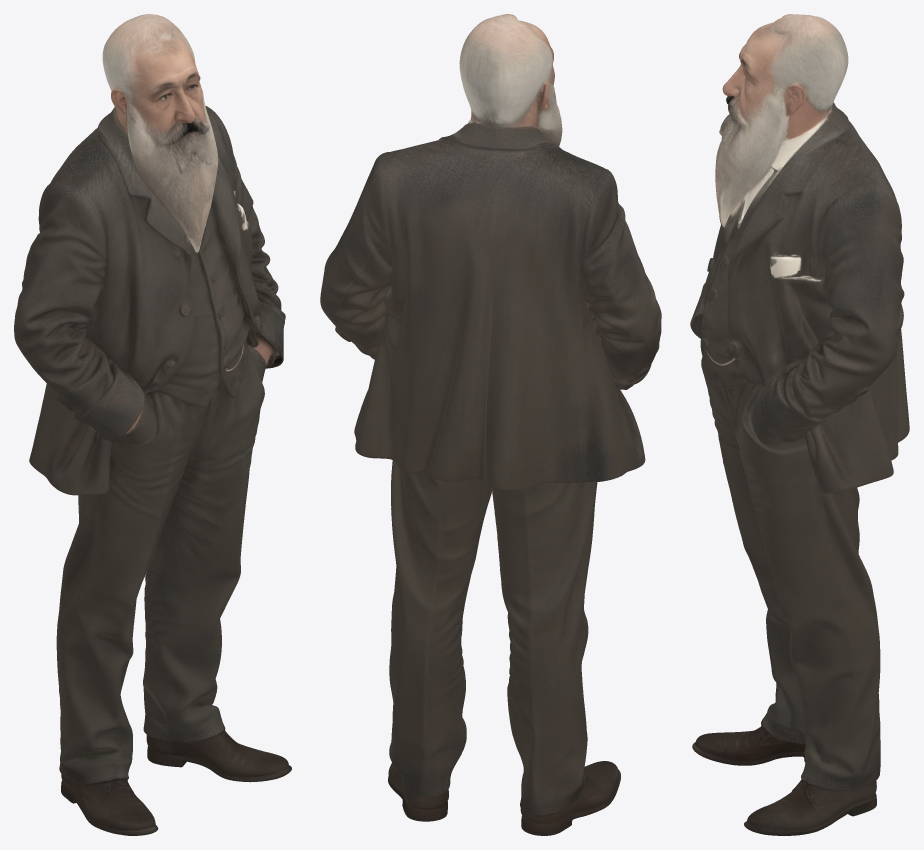
The model's file is Claude-Monet_standing_c.glb.
3 renders of one model, left to right at view 1: azimuth 30°, elevation 25°; view 2: azimuth 150°, elevation 25°; view 3: azimuth 270°, elevation 25°, orthographic. The views are drawn at different scales.
Visible parts, largest first — view 1: mesh_node; view 2: mesh_node; view 3: mesh_node.
Part boxes in pixels (x1,y1,x2,y2): mesh_node: [14, 14, 291, 835]; mesh_node: [320, 14, 661, 835]; mesh_node: [690, 14, 909, 835].
Size of the model in its own units: 0.7229 by 1.9 by 0.4923.
1 material, 1 textured.
